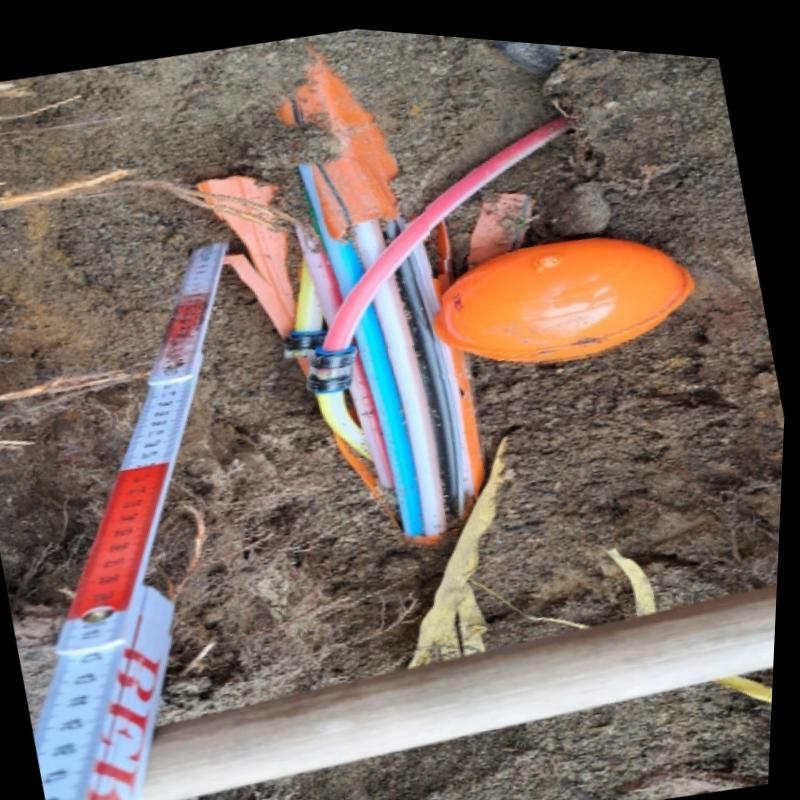Kugelmarker: (432, 226, 692, 353)
Orang-Speednetrohrchen: (219, 60, 442, 386)
